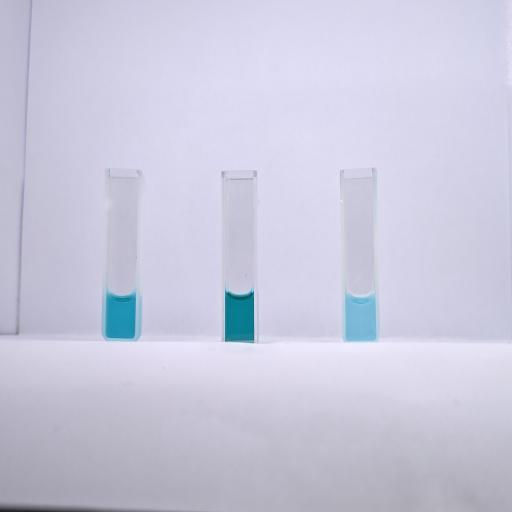cuvette: (100, 166, 145, 343), (338, 164, 380, 344), (219, 167, 260, 346)
liquid: (225, 290, 254, 342), (346, 292, 376, 341), (106, 290, 136, 338)
